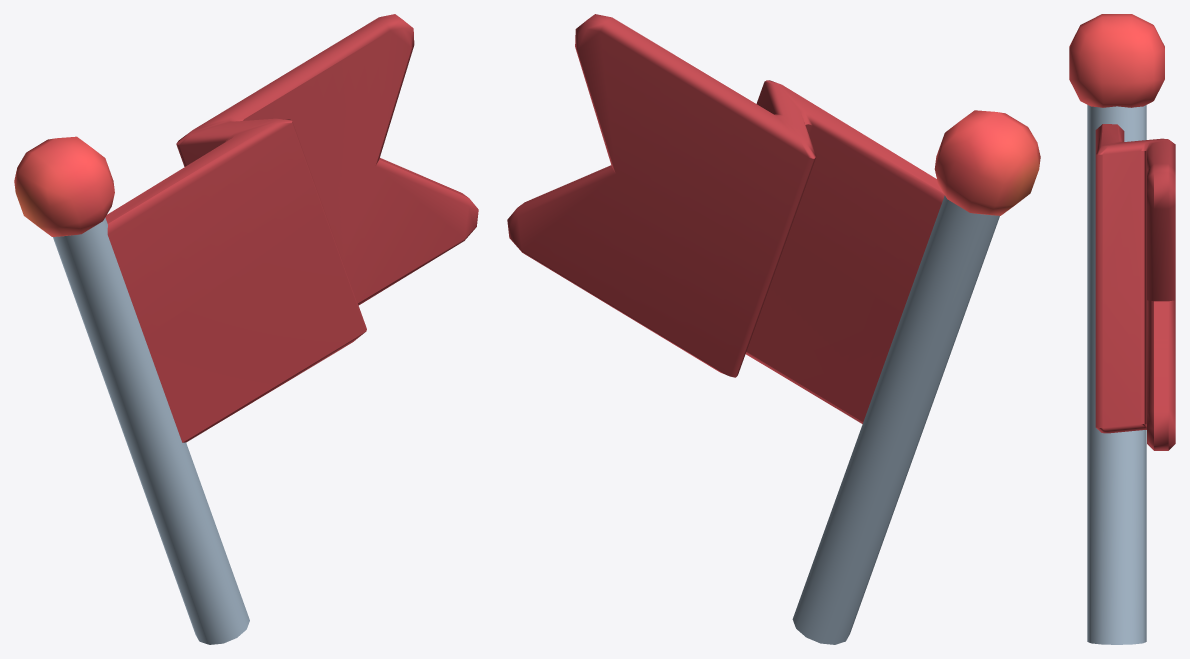
The picture shows the model from 3 angles, left to right: view 1: azimuth 30°, elevation 25°; view 2: azimuth 150°, elevation 25°; view 3: azimuth 270°, elevation 25°; orthographic projection. The views are drawn at different scales.
Parts seen in each view (by area): view 1: model_0.108; view 2: model_0.108; view 3: model_0.108.
Part boxes in pixels (left/top/right/bottom): model_0.108: left=14, top=14, right=478, bottom=644; model_0.108: left=507, top=14, right=1040, bottom=644; model_0.108: left=1069, top=14, right=1175, bottom=644.
Bounding box in the file's own units: 3.84 × 4.31 × 0.7181.
